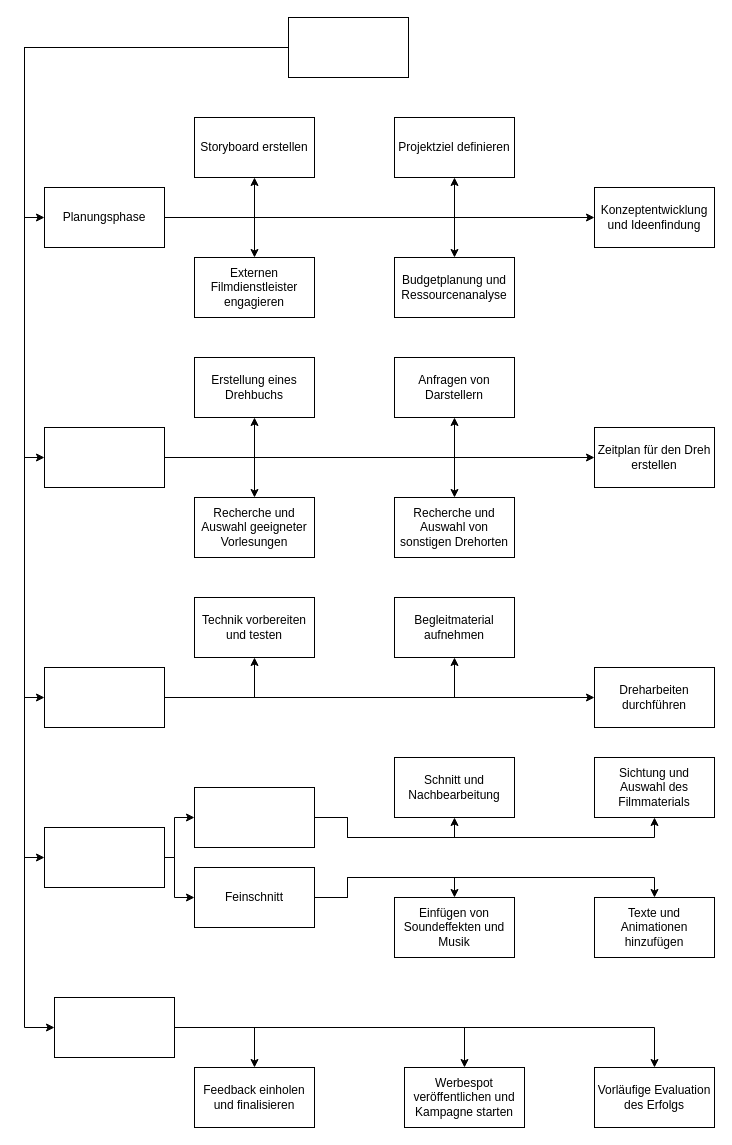
The diagram is 732 pixels wide and 1145 high, and some of its shapes have lost their labels. Each missing label, with the centre of its shape:
Post-Produktion: point (104, 857)
Pre-Produktion: point (104, 457)
Produktion: point (104, 697)
Rohschnitt: point (254, 817)
Veröffentlichung und Marketing: point (114, 1027)
Werbespot: point (348, 47)
